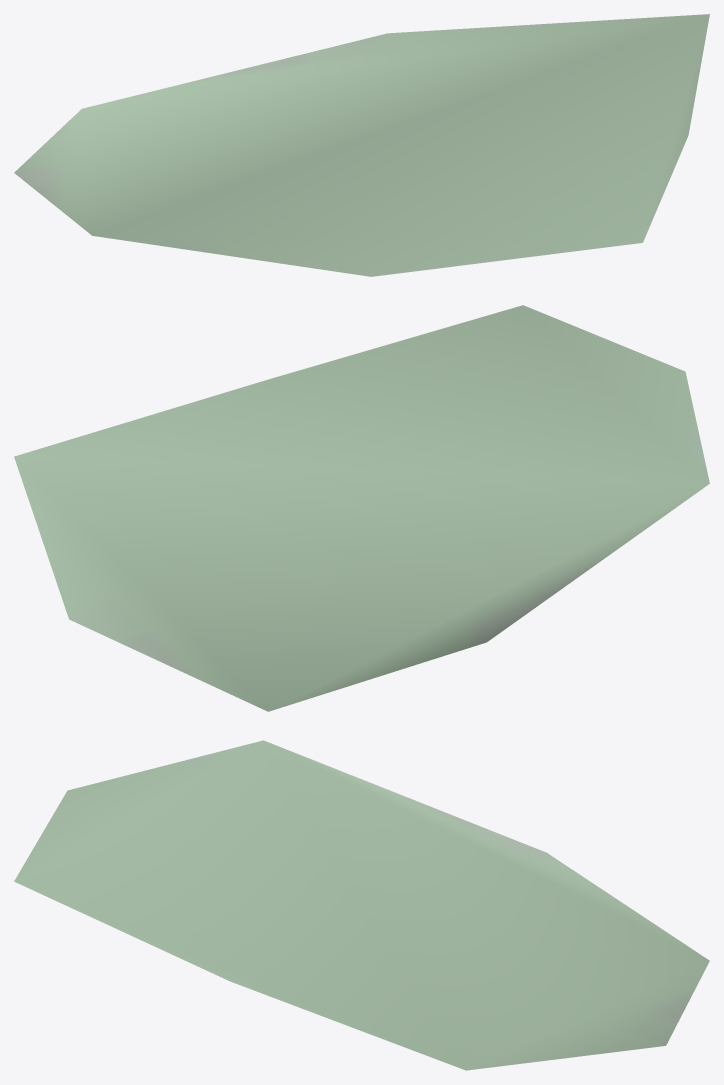
File: TROLLHOLE02_HOLECAP184.fbx
3 renders of one model, top to bottom at view 1: azimuth 30°, elevation 25°; view 2: azimuth 150°, elevation 25°; view 3: azimuth 270°, elevation 25°, orthographic. The views are drawn at different scales.
Visible parts, largest first — view 1: TROLLHOLE02_HOLECAP184; view 2: TROLLHOLE02_HOLECAP184; view 3: TROLLHOLE02_HOLECAP184.
Boxes of the visible parts, x1,y1,x2,y2 form: TROLLHOLE02_HOLECAP184: (14, 14, 709, 276); TROLLHOLE02_HOLECAP184: (14, 305, 709, 711); TROLLHOLE02_HOLECAP184: (14, 740, 709, 1070).
Size of the model in its own units: 33137 by 6752 by 33900.
1 material, 1 textured.
